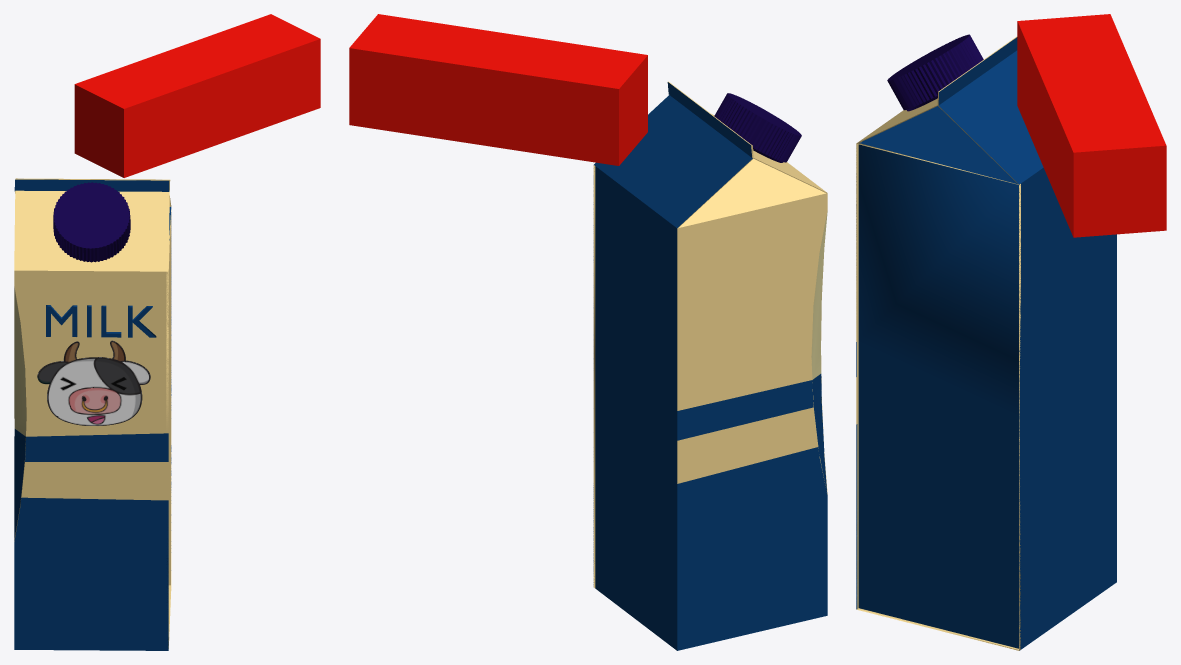
Rendered from milk.fbx.
3 views of the same model, side by side, from view 1: azimuth 30°, elevation 25°; view 2: azimuth 150°, elevation 25°; view 3: azimuth 270°, elevation 25° (orthographic). The views are drawn at different scales.
Parts seen in each view (by area): view 1: milk; view 2: milk; view 3: milk.
Boxes of the visible parts, <box> form: milk: <box>14,14,320,650</box>; milk: <box>349,14,827,650</box>; milk: <box>856,14,1166,650</box>.
Bounding box in the file's own units: 184 × 243 × 113.
